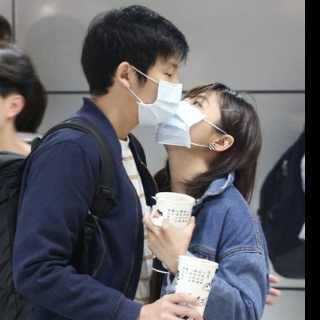with_mask: (153, 92, 220, 146), (131, 61, 184, 121)
